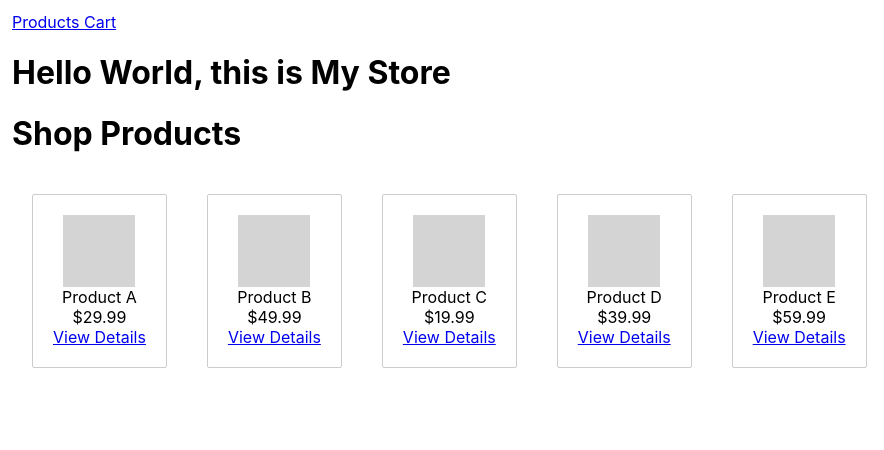
Verify that clicking on the 'Back to Products' link takes you back to the product list
Expected: the element with test id "product-1" is shown, [32, 194, 167, 368]
Note: Check that view details link to product a is present
Click the link "View Details" below "29.99".
click(99, 337)  # box [53, 327, 146, 347]
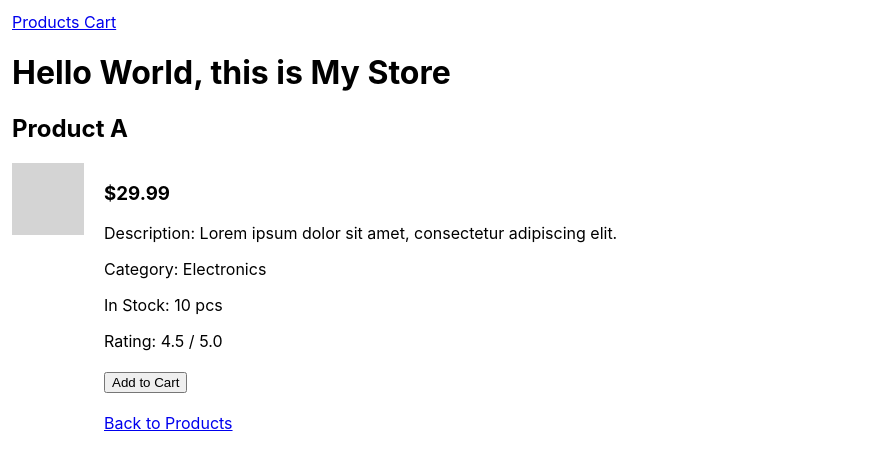
Expected: the link "Back to Products" is shown
Click the link "Back to Products".
click(168, 423)  # box [104, 413, 232, 433]
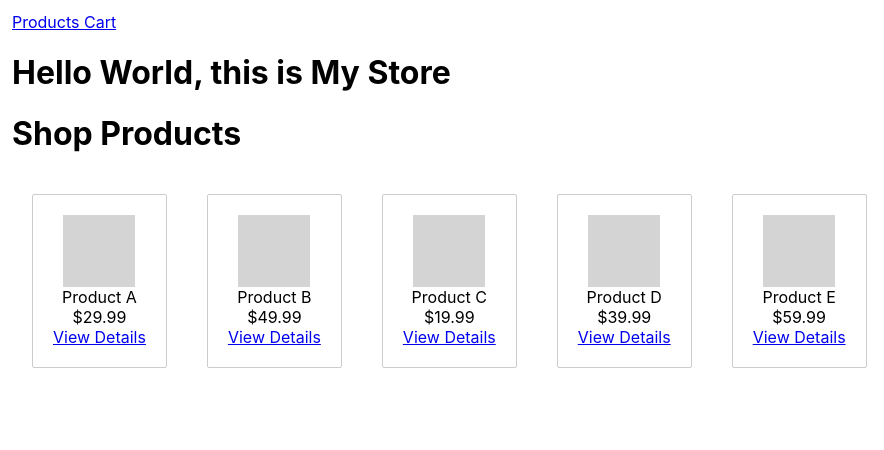
Expected: the heading "Shop Products" is shown, [12, 114, 241, 153]
